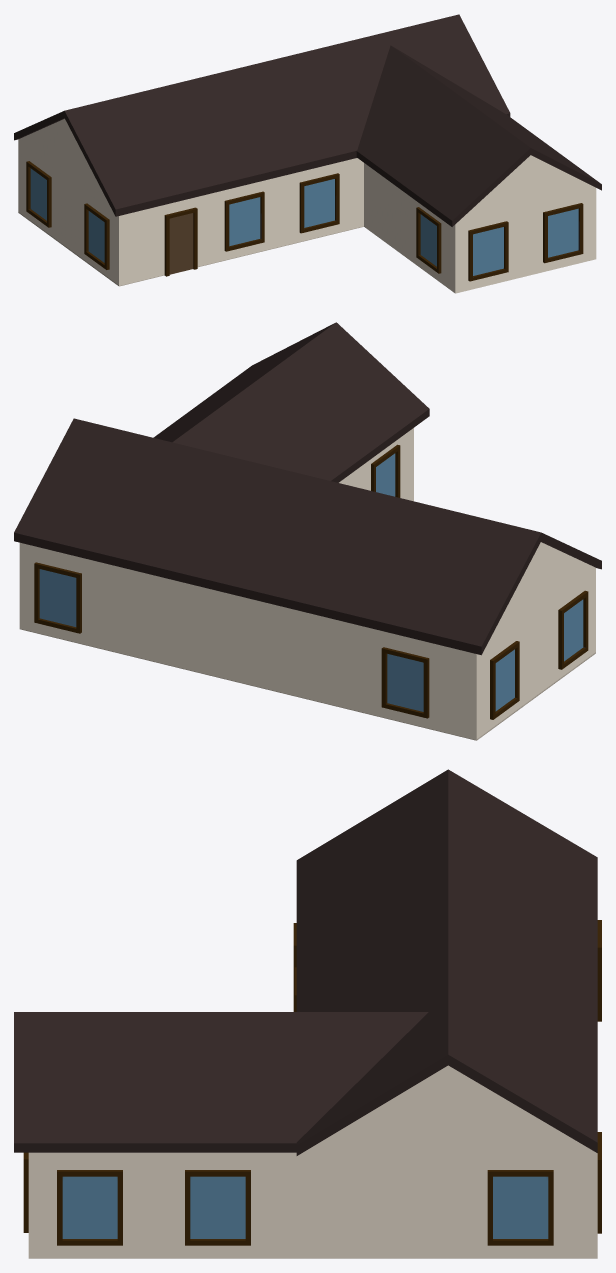
Rendered from OSHouse06.glb.
3 renders of one model, top to bottom at view 1: azimuth 30°, elevation 25°; view 2: azimuth 150°, elevation 25°; view 3: azimuth 270°, elevation 25°, orthographic. The views are drawn at different scales.
Parts seen in each view (by area): view 1: OsHouse06Roof, OSHouse06; view 2: OsHouse06Roof, OSHouse06; view 3: OsHouse06Roof, OSHouse06.
Boxes of the visible parts, <box> form: OsHouse06Roof: <box>14,14,601,226</box>; OSHouse06: <box>18,118,596,293</box>; OsHouse06Roof: <box>14,322,601,655</box>; OSHouse06: <box>19,428,595,740</box>; OsHouse06Roof: <box>14,769,597,1155</box>; OSHouse06: <box>23,920,601,1258</box>.
Size of what is drawn, in the model's own units: 9.3 by 3.15 by 8.1.
2 materials, 1 textured.
